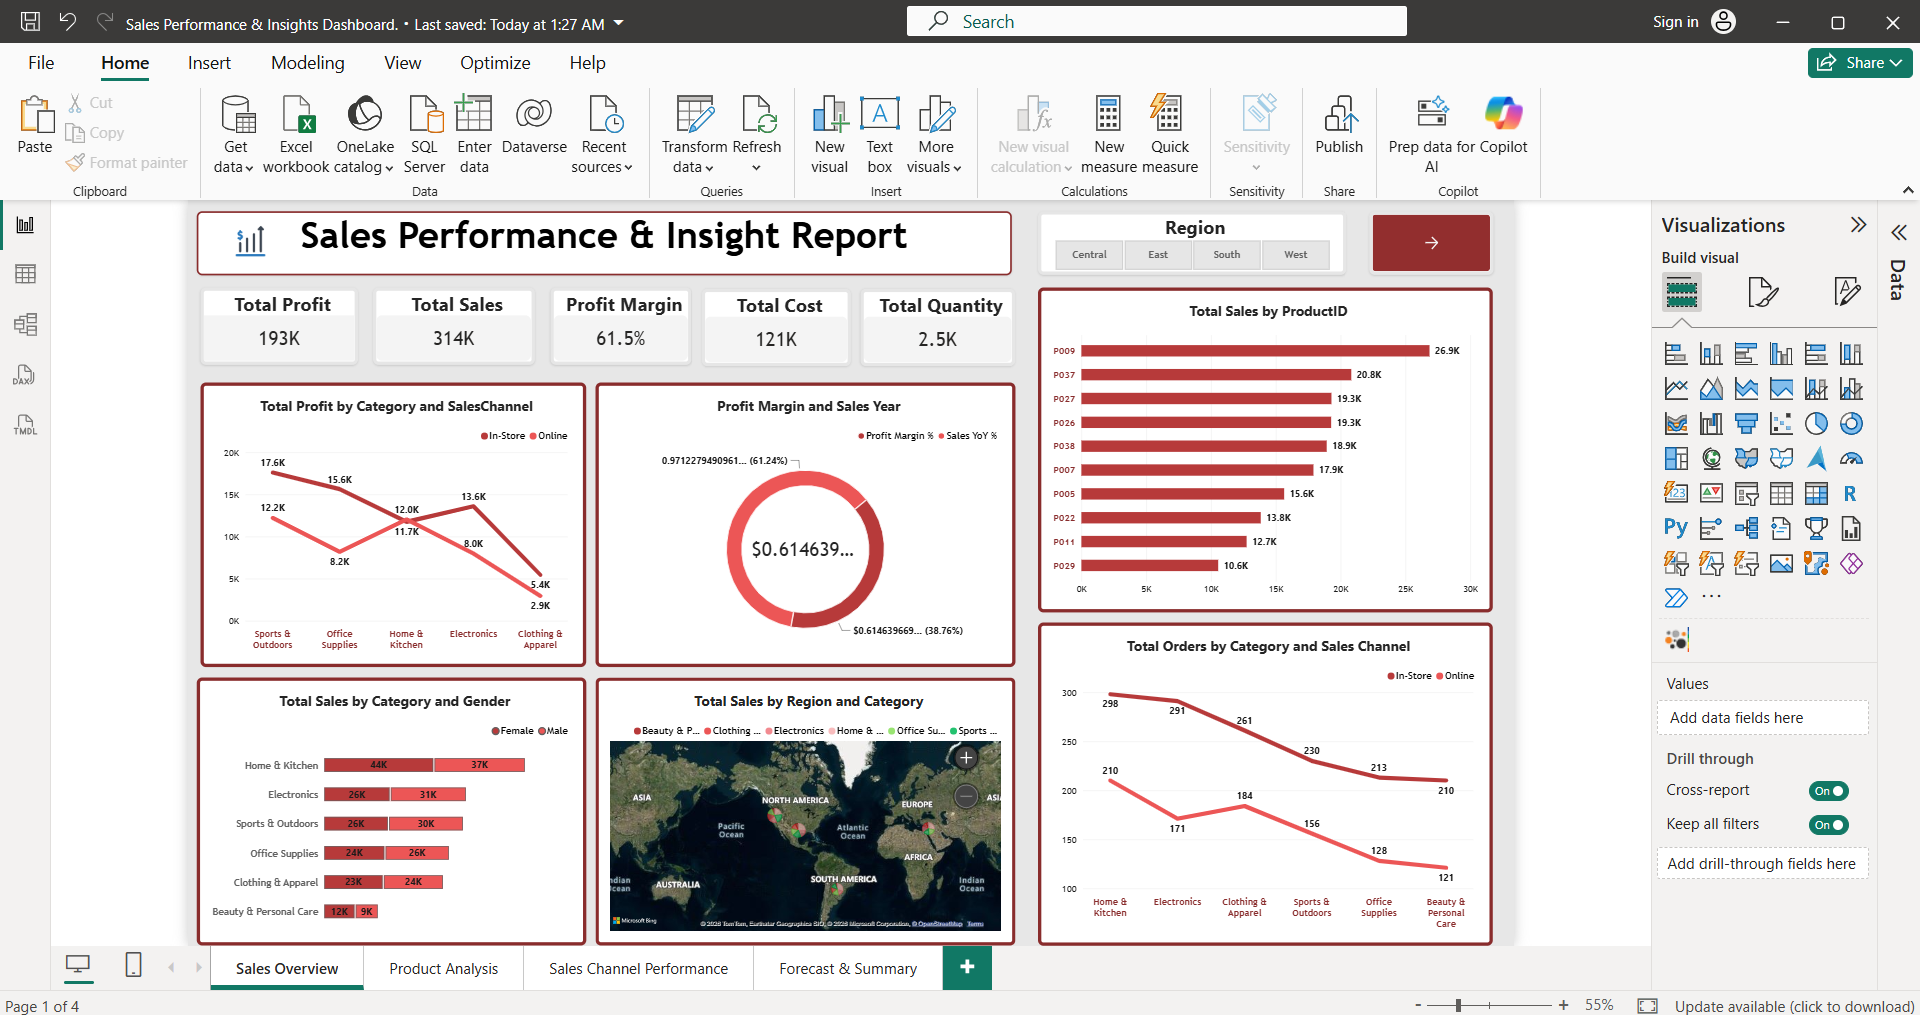

This screenshot's page, from the dashboard's own definition file:
{"tool":"powerbi","page":{"name":"Sales Overview","canvas":[1920,1080],"ordinal":0},"visuals":[{"type":"barChart","fields":{"Category":["Products.Category"],"Series":["Customers.Gender"],"Y":["Sales.Total Sales"]},"box":[12,692,564,388],"z":1000},{"type":"slicer","title":"Region","fields":{"Values":["Customers.Region"]},"box":[1230.6,16.3,446,92],"z":2000},{"type":"donutChart","title":"Profit Margin  and Sales Year","fields":{"Y":["Sales.Profit Margin %","Sales.Sales YoY %"]},"box":[590,264,608,412],"z":3000},{"type":"map","fields":{"Category":["Stores.Region"],"Series":["Products.Category"],"Size":["Sales.Total Sales"]},"box":[590,692,608,388],"z":4000},{"type":"cardVisual","title":"Total Profit ","fields":{"Data":["Sales.Total Profit"]},"box":[18,126,228,112],"z":5000},{"type":"cardVisual","title":"Total Sales","fields":{"Data":["Sales.Total Sales"]},"box":[268,126,234,112],"z":6000},{"type":"cardVisual","title":"Profit Margin","fields":{"Data":["Sales.Profit Margin %"]},"box":[524,126,204,112],"z":7000},{"type":"cardVisual","title":"Total  Cost","fields":{"Data":["Sales.Total Cost"]},"box":[744,128,216,112],"z":8000},{"type":"actionButton","box":[1710.1,16.3,180,92],"z":9000},{"type":"textbox","box":[12.7,16.3,1180,93],"z":10000},{"type":"lineChart","fields":{"Category":["Products.Category"],"Series":["Sales.SalesChannel"],"Y":["Sales.Total Profit"]},"box":[18,264,558,412],"z":11000},{"type":"clusteredBarChart","fields":{"Category":["Products.ProductID"],"Y":["Sales.Total Sales"]},"box":[1230,126,658,470],"z":12000},{"type":"lineChart","title":"Total Orders by Category and Sales Channel","fields":{"Category":["Products.Category"],"Series":["Sales.SalesChannel"],"Y":["Sales.Total Orders"]},"box":[1230,612,658,468],"z":13000},{"type":"cardVisual","title":"Total  Quantity","fields":{"Data":["CountNonNull(Sales.Quantity)"]},"box":[974,128,224,112],"z":14000},{"type":"image","box":[18.1,25.3,144.8,68.8],"z":15000}]}

Visuals, with their boxes on the page's 1920x1080 design canvas (x1, y1, x2, y2). These are canvas units, not pixel positions in the 1920x1015 screenshot, which may show the page scaled, cropped or inside an application window:
barChart - Products.Category x Customers.Gender: BBox(12, 692, 576, 1080)
"Region" slicer: BBox(1231, 16, 1677, 108)
"Profit Margin  and Sales Year" donutChart: BBox(590, 264, 1198, 676)
map - Stores.Region x Products.Category: BBox(590, 692, 1198, 1080)
"Total Profit " cardVisual: BBox(18, 126, 246, 238)
"Total Sales" cardVisual: BBox(268, 126, 502, 238)
"Profit Margin" cardVisual: BBox(524, 126, 728, 238)
"Total  Cost" cardVisual: BBox(744, 128, 960, 240)
actionButton: BBox(1710, 16, 1890, 108)
textbox: BBox(13, 16, 1193, 109)
lineChart - Products.Category x Sales.SalesChannel: BBox(18, 264, 576, 676)
clusteredBarChart - Products.ProductID x Sales.Total Sales: BBox(1230, 126, 1888, 596)
"Total Orders by Category and Sales Channel" lineChart: BBox(1230, 612, 1888, 1080)
"Total  Quantity" cardVisual: BBox(974, 128, 1198, 240)
image: BBox(18, 25, 163, 94)
